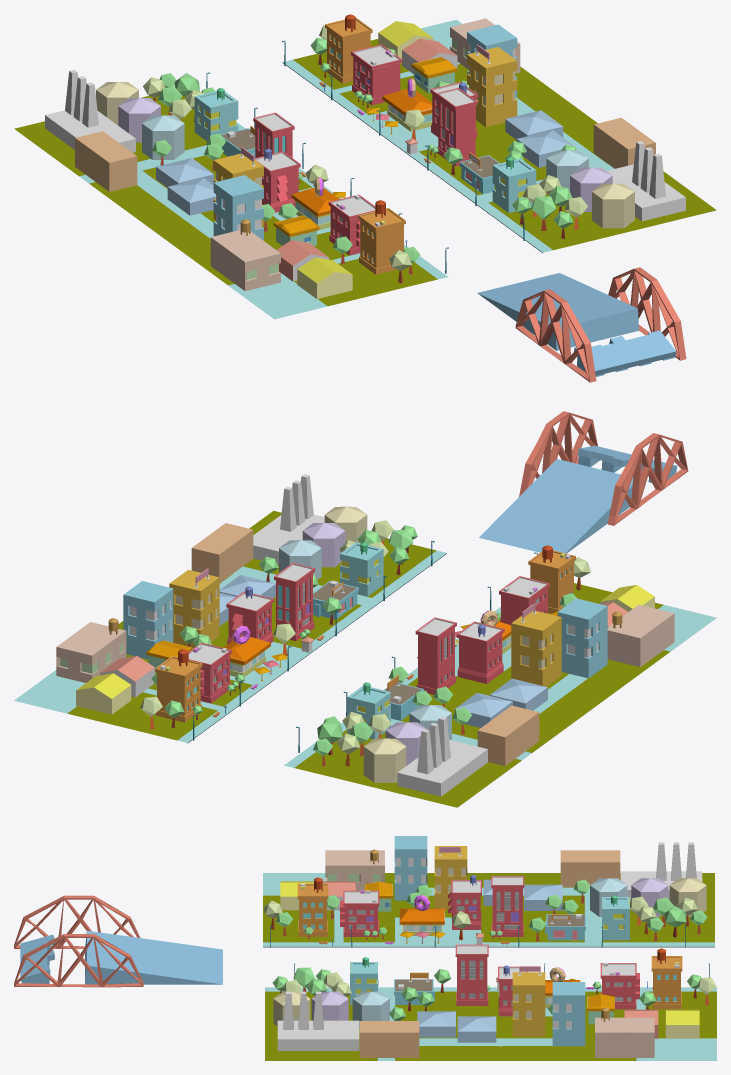
Rendered from city_pre.glb.
3 renders of one model, top to bottom at view 1: azimuth 30°, elevation 25°; view 2: azimuth 150°, elevation 25°; view 3: azimuth 270°, elevation 25°, orthographic. The views are drawn at different scales.
Parts seen in each view (by area): view 1: ground, ground.001, bridge.016, bridge.018, third_plan building.001, second_plan building, factory building.002, bridge.001, second_plan building.004, bridge.014, building.003, building.004 (+36 smaller); view 2: ground.001, ground, bridge.016, bridge.018, second_plan building.002, second_plan building.004, second_plan building.001, third_plan building.001, third_plan building, second_plan building, factory building.002, bridge.001 (+30 smaller); view 3: ground.001, ground, bridge.016, bridge.001, third_plan building, factory building.006, factory building, second_plan building.001, second_plan building, building.003, second_plan building.004, factory building.002 (+33 smaller).
Part boxes in pixels (box(x1,y1,x2,y2)): ground: box(282, 19, 716, 252); ground.001: box(14, 95, 447, 319); bridge.016: box(477, 273, 638, 350); bridge.018: box(515, 289, 596, 382); third_plan building.001: box(210, 230, 280, 291); second_plan building: box(467, 47, 517, 127); factory building.002: box(75, 131, 137, 191); bridge.001: box(608, 267, 686, 360); second_plan building.004: box(213, 175, 263, 240); bridge.014: box(574, 330, 676, 376); building.003: box(436, 87, 477, 166); building.004: box(358, 208, 405, 274); ground.001: box(284, 583, 716, 807); ground: box(14, 510, 446, 743); bridge.016: box(479, 459, 633, 553); bridge.018: box(607, 433, 688, 525); second_plan building.002: box(511, 610, 561, 686); second_plan building.004: box(557, 598, 607, 678); second_plan building.001: box(123, 581, 173, 659); third_plan building.001: box(607, 604, 674, 667); third_plan building: box(56, 622, 126, 682); second_plan building: box(169, 569, 219, 648); factory building.002: box(477, 705, 539, 765); bridge.001: box(519, 411, 597, 496); ground.001: box(263, 873, 714, 947); ground: box(265, 987, 716, 1060); bridge.016: box(85, 930, 222, 984); bridge.001: box(14, 934, 143, 987); third_plan building: box(595, 1017, 654, 1057); factory building.006: box(277, 1020, 359, 1050); factory building: box(359, 1021, 419, 1057); second_plan building.001: box(552, 982, 585, 1046); second_plan building: box(512, 972, 545, 1036); building.003: box(455, 944, 488, 1005); second_plan building.004: box(394, 836, 427, 900); factory building.002: box(560, 850, 620, 887).
Size of the model in its own units: 31.94 by 4.96 by 50.51.
40 materials, 21 textured.
